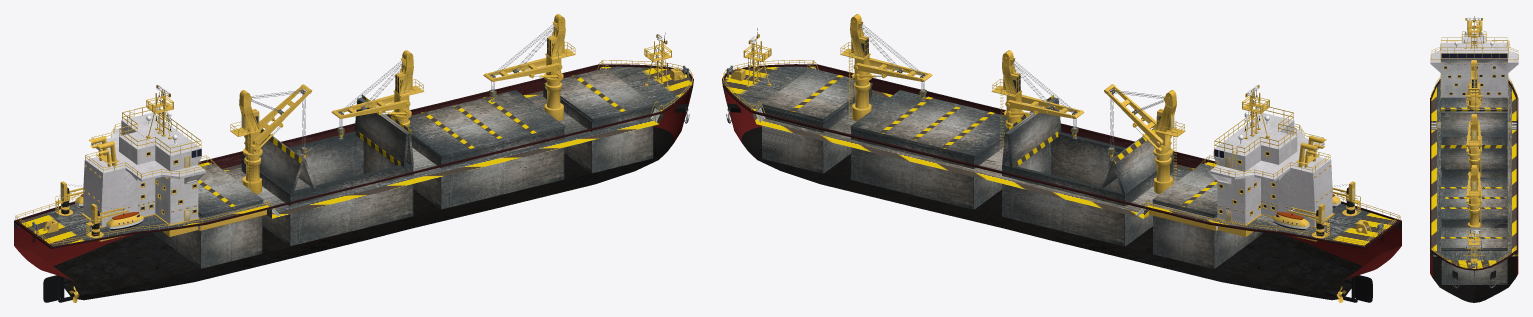
Rendered from deco_ship_1.glb.
3 views of the same model, side by side, from view 1: azimuth 30°, elevation 25°; view 2: azimuth 150°, elevation 25°; view 3: azimuth 270°, elevation 25° (orthographic). The views are drawn at different scales.
Visible parts, largest first — view 1: Object_25, Object_40, Object_47, Object_43, Object_11, Object_7, Object_18, Object_21, Object_22, Object_12, Object_34, Object_14 (+3 smaller); view 2: Object_25, Object_40, Object_47, Object_43, Object_11, Object_7, Object_21, Object_18, Object_22, Object_14, Object_12, Object_34 (+3 smaller); view 3: Object_25, Object_47, Object_43, Object_40, Object_11, Object_21, Object_12, Object_14, Object_42, Object_22, Object_18, Object_44 (+7 smaller).
Part boxes in pixels (x1,y1,x2,y2): Object_25: [152, 68, 688, 268]; Object_40: [14, 64, 693, 300]; Object_47: [19, 66, 691, 246]; Object_43: [83, 112, 205, 226]; Object_11: [16, 21, 692, 242]; Object_7: [14, 90, 691, 283]; Object_18: [239, 86, 410, 194]; Object_21: [60, 40, 693, 226]; Object_22: [16, 35, 663, 302]; Object_12: [15, 14, 672, 244]; Object_34: [67, 24, 556, 210]; Object_14: [61, 43, 575, 226]; Object_25: [727, 68, 1262, 268]; Object_40: [722, 64, 1401, 300]; Object_47: [724, 66, 1397, 246]; Object_43: [1209, 113, 1332, 226]; Object_11: [723, 21, 1399, 242]; Object_7: [724, 90, 1401, 283]; Object_21: [722, 40, 1355, 226]; Object_18: [1005, 86, 1176, 194]; Object_22: [752, 35, 1400, 302]; Object_14: [840, 43, 1354, 226]; Object_12: [743, 14, 1400, 246]; Object_34: [859, 24, 1348, 210]; Object_25: [1441, 97, 1507, 284]; Object_47: [1430, 82, 1518, 268]; Object_43: [1430, 36, 1518, 98]; Object_40: [1430, 79, 1518, 302]; Object_11: [1430, 20, 1517, 268]; Object_21: [1432, 31, 1516, 268]; Object_12: [1431, 20, 1515, 259]; Object_14: [1466, 41, 1508, 227]; Object_42: [1441, 53, 1507, 94]; Object_22: [1430, 18, 1518, 250]; Object_18: [1466, 60, 1482, 146]; Object_44: [1431, 17, 1516, 256].
Size of the model in its own units: 23.39 by 6.52 by 4.02.
Materials: 33 (32 with a texture image).
